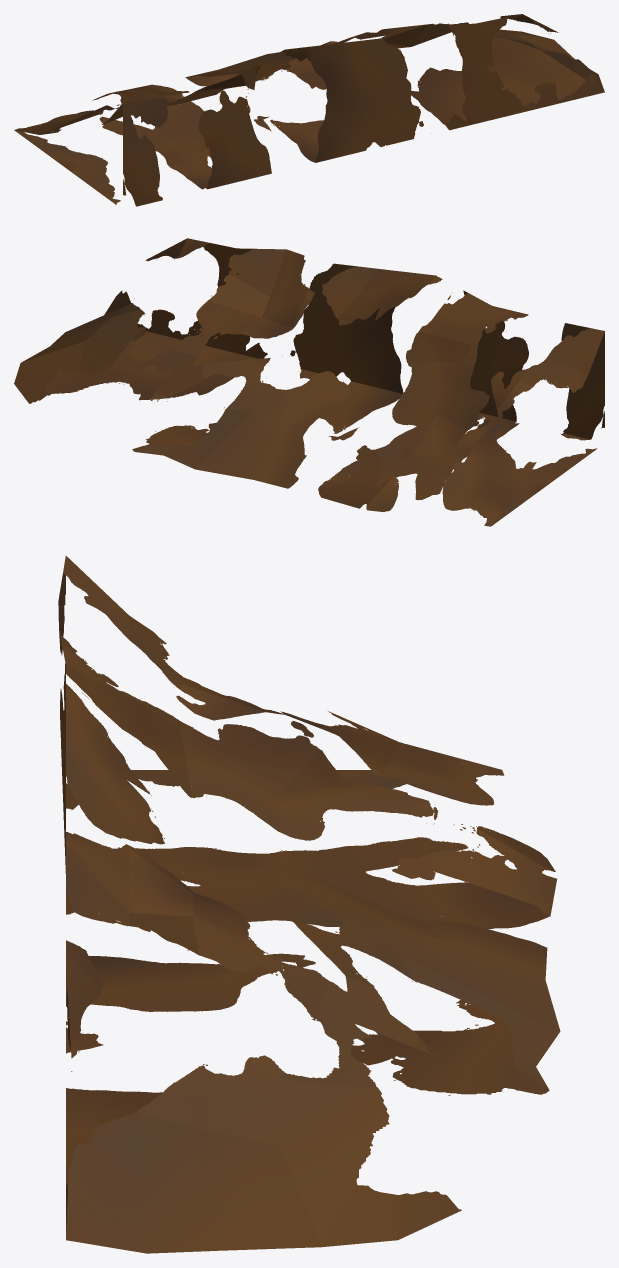
The model's file is Collin_dirtPileCornerEndL.fbx.
3 renders of one model, top to bottom at view 1: azimuth 30°, elevation 25°; view 2: azimuth 150°, elevation 25°; view 3: azimuth 270°, elevation 25°, orthographic. The views are drawn at different scales.
Visible parts, largest first — view 1: dirtagainst_wallEndL; view 2: dirtagainst_wallEndL; view 3: dirtagainst_wallEndL.
Boxes of the visible parts, box(x1,y1,x2,y2) form: dirtagainst_wallEndL: box(14, 14, 604, 206); dirtagainst_wallEndL: box(14, 238, 604, 526); dirtagainst_wallEndL: box(58, 556, 560, 1253).
Bounding box in the file's own units: 12.83 × 2.99 × 5.68.
1 material, 1 textured.
